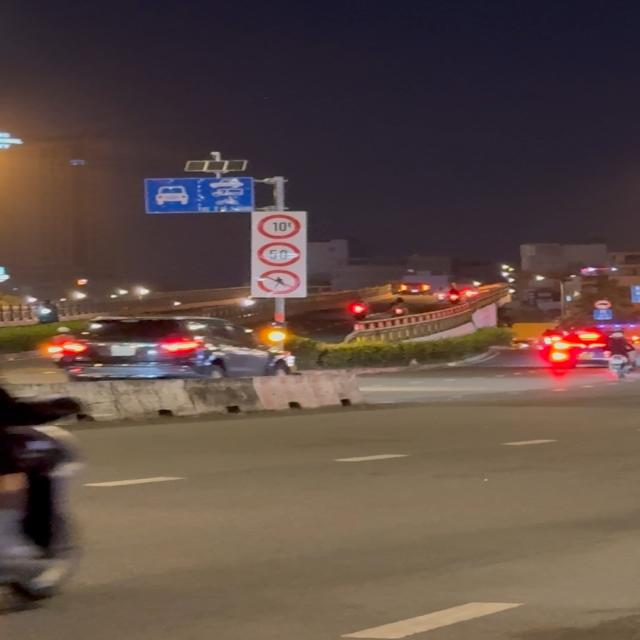Bien bao cam nguoi di bo: (256, 270, 300, 296)
Bien bao toc do toi da cho phep: (257, 242, 304, 268)
